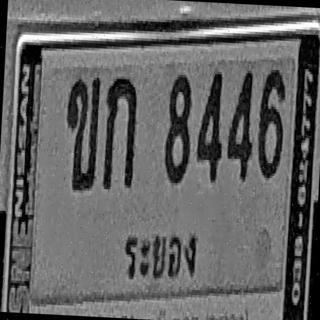A01: (102, 75, 138, 190)
A02: (62, 74, 101, 191)
N04: (195, 68, 226, 183), (226, 66, 256, 181)
N06: (256, 67, 286, 179)
N08: (163, 72, 194, 184)
P53: (121, 220, 204, 295)
